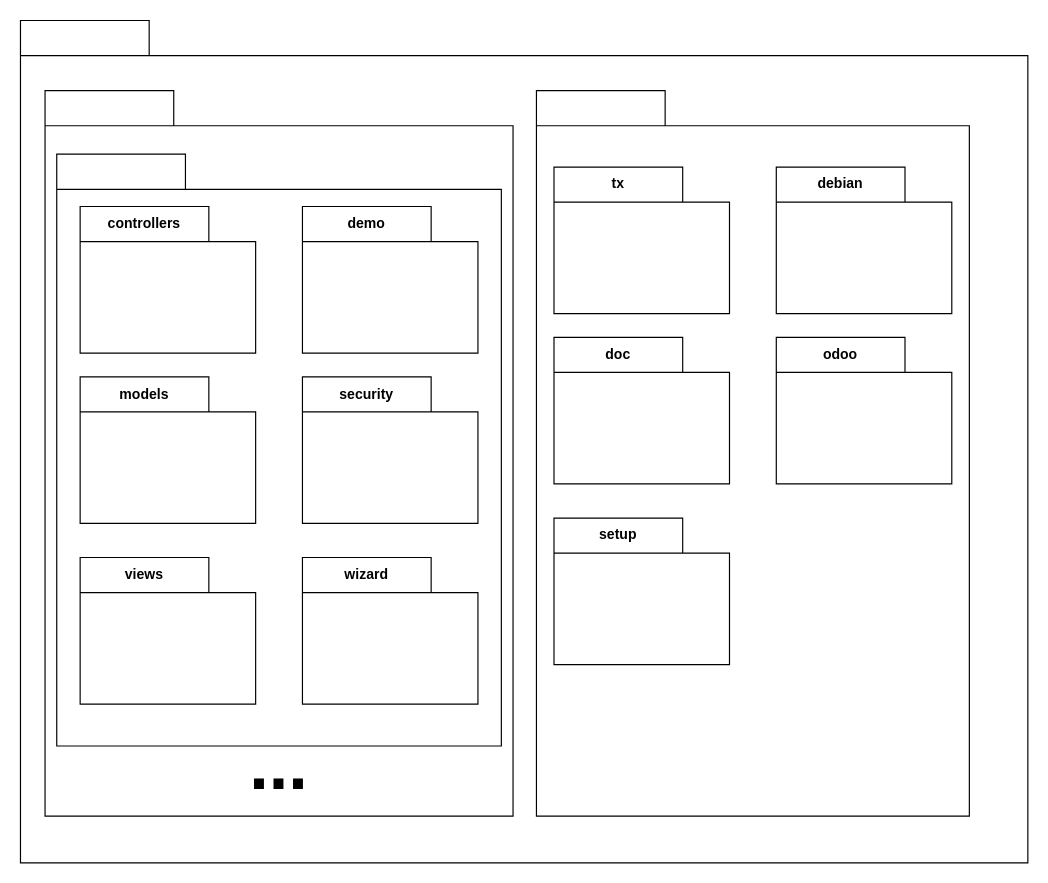
Some shapes in this 1048 by 883 pixel diagram are drawn without their labels. Here are the shapes that lost their labels. From the top down, the box of each, then its label:
(56, 153, 501, 746): module
(44, 90, 513, 816): addons
(535, 90, 969, 816): src
